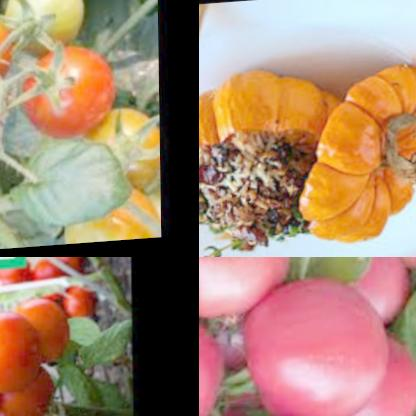pumpkin: (199, 69, 349, 253), (296, 55, 416, 253)
tomato: (233, 276, 396, 416), (286, 257, 416, 354), (14, 50, 117, 143), (61, 107, 158, 199), (299, 349, 416, 416), (199, 257, 293, 336), (59, 185, 159, 249), (4, 0, 84, 63), (0, 305, 43, 392), (13, 294, 66, 363), (0, 356, 60, 416), (0, 257, 74, 293), (22, 257, 68, 301), (56, 282, 93, 335), (375, 257, 416, 298)
